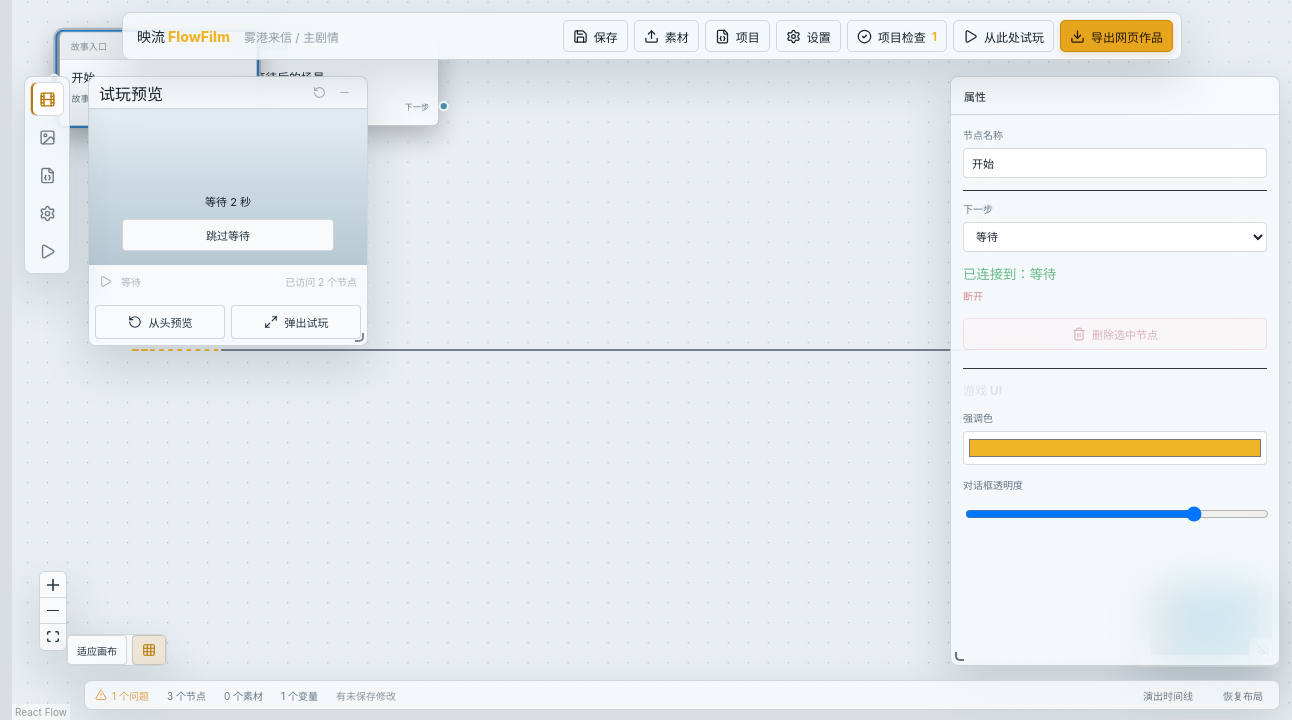
Test: editor workbench › shows and skips a wait interaction
Expected: the 1st text "等待 2 秒" is shown, [163, 92, 201, 103]
Click the button "跳过等待" at (228, 235), box [122, 219, 334, 251]
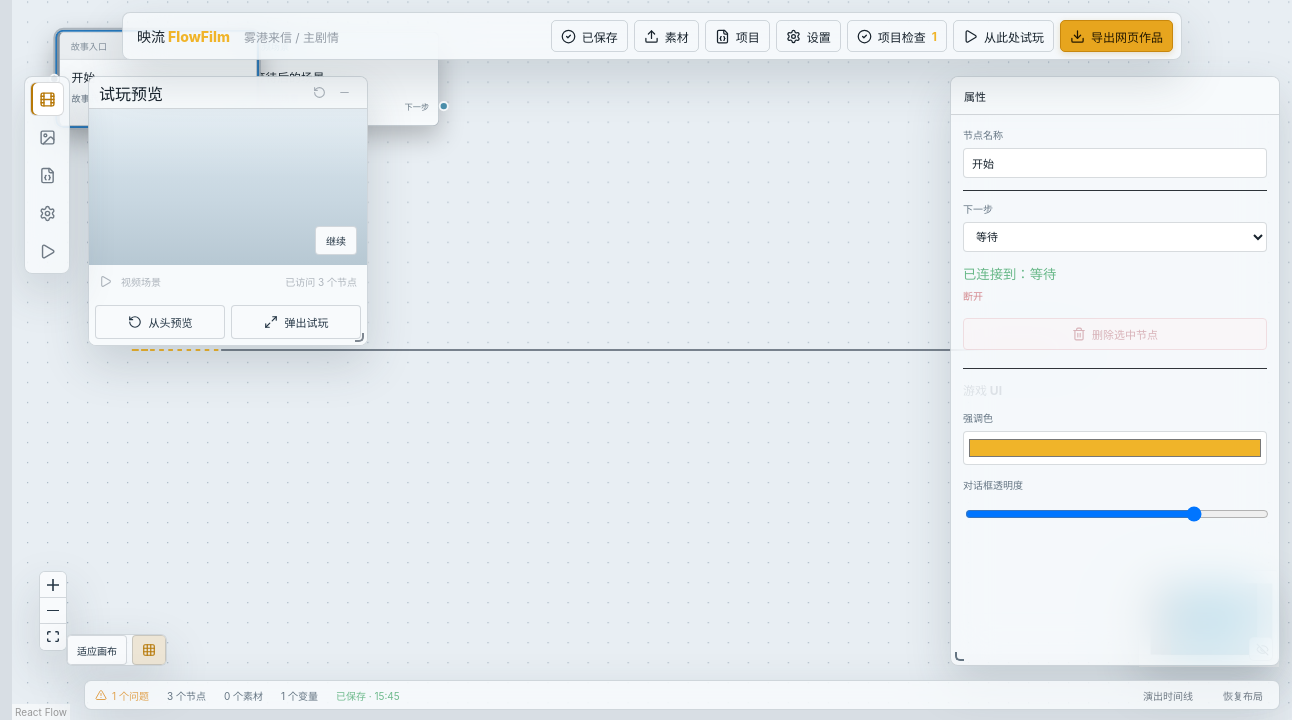
Now the button with aria-label "继续剧情" is shown, box [315, 226, 357, 255]
